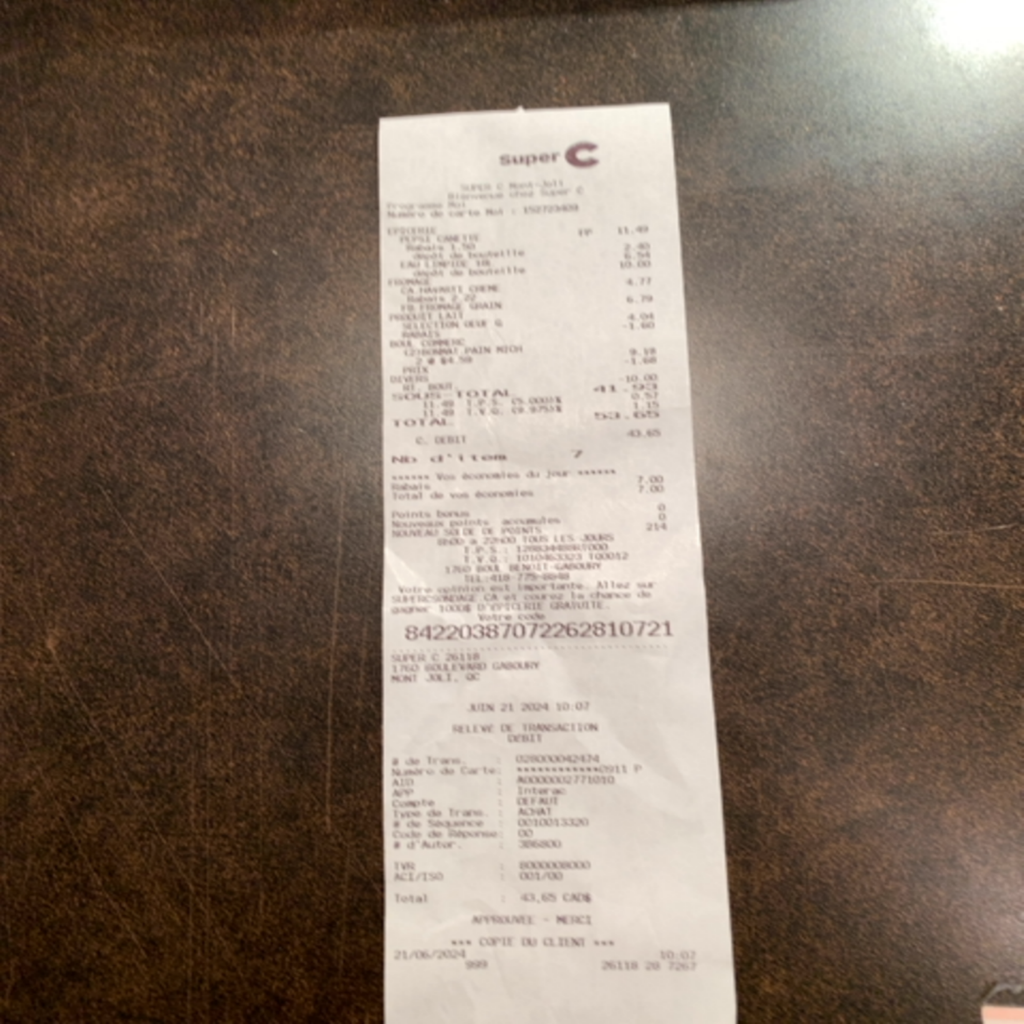recipt: (380, 101, 737, 1022)
